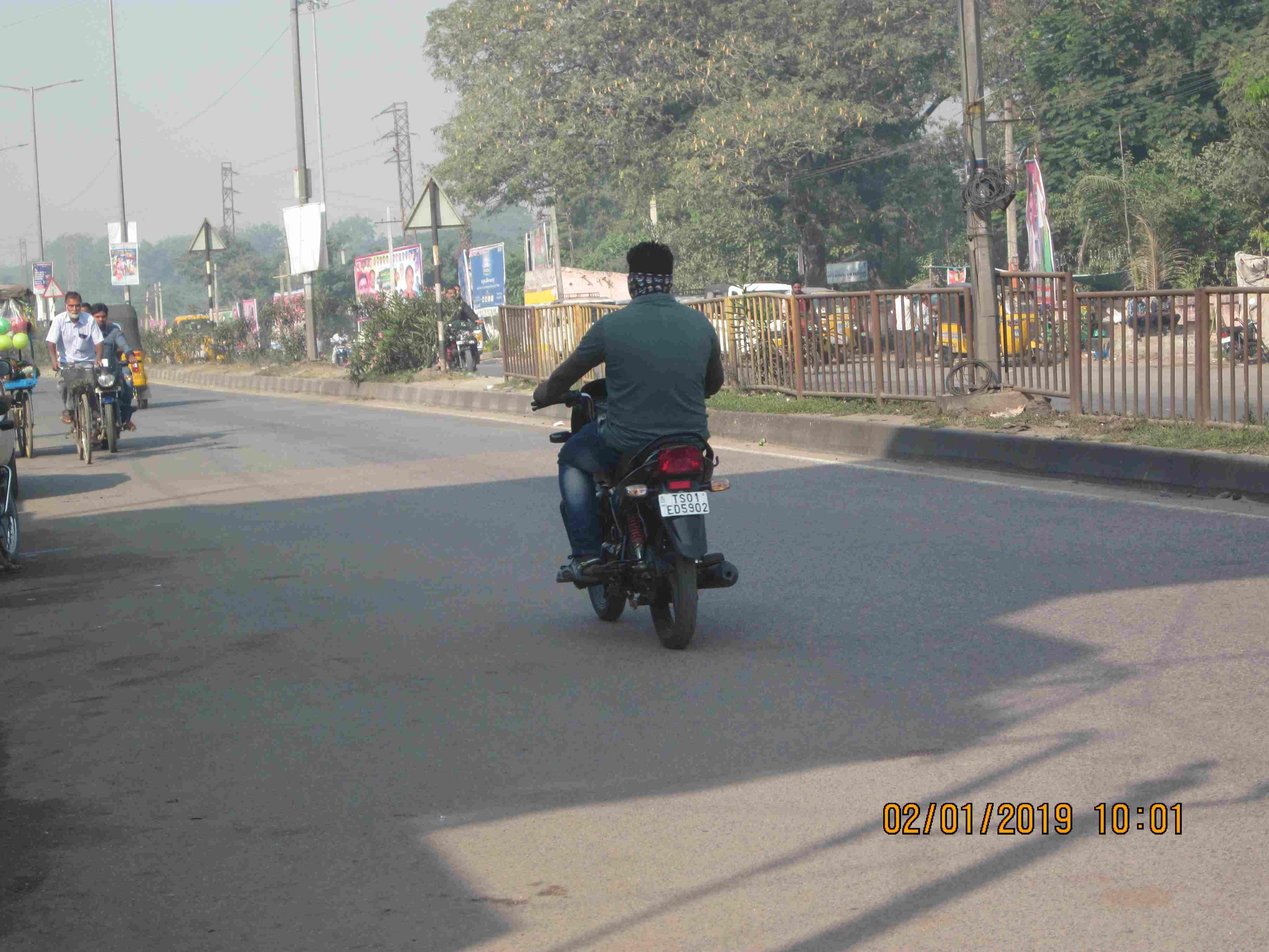plate: (656, 486, 714, 522)
